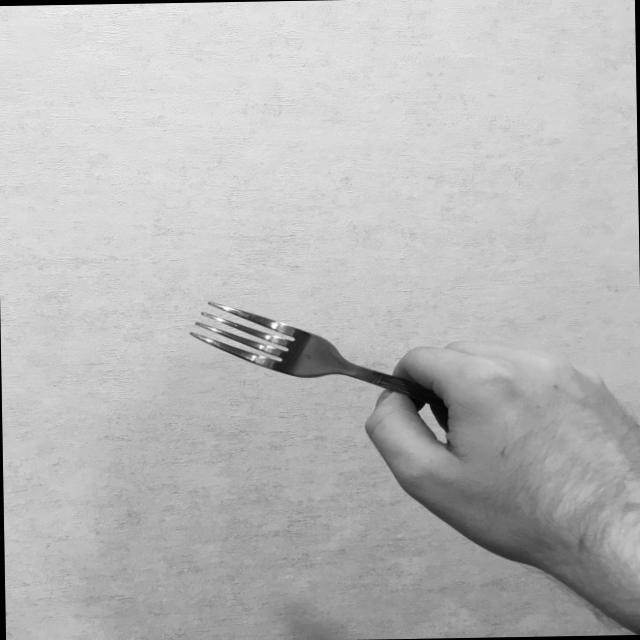fork: (187, 294, 515, 414)
